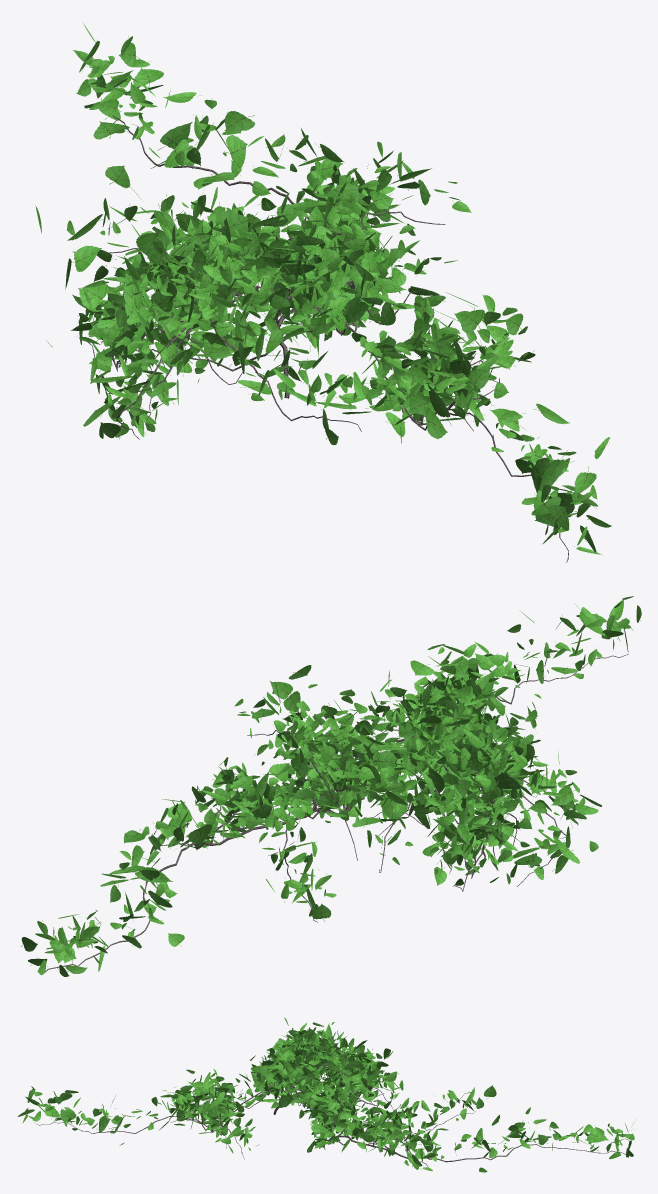
The model's file is Ivy.FBX.
3 views of the same model, one above another, from view 1: azimuth 30°, elevation 25°; view 2: azimuth 150°, elevation 25°; view 3: azimuth 270°, elevation 25° (orthographic). The views are drawn at different scales.
Visible parts, largest first — view 1: IvyLeaf, IVY_Curve; view 2: IvyLeaf, IVY_Curve; view 3: IvyLeaf, IVY_Curve.
Boxes of the visible parts, box(x1,y1,x2,y2) form: IvyLeaf: box(35, 23, 611, 555); IVY_Curve: box(73, 115, 568, 562); IvyLeaf: box(21, 596, 641, 976); IVY_Curve: box(45, 654, 628, 972); IvyLeaf: box(18, 1017, 634, 1172); IVY_Curve: box(34, 1063, 628, 1166).
Bounding box in the file's own units: 58.42 × 28.46 × 137.
